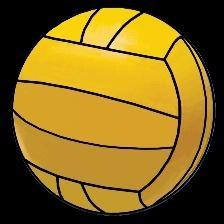Sports-Ball: (15, 5, 224, 224)
